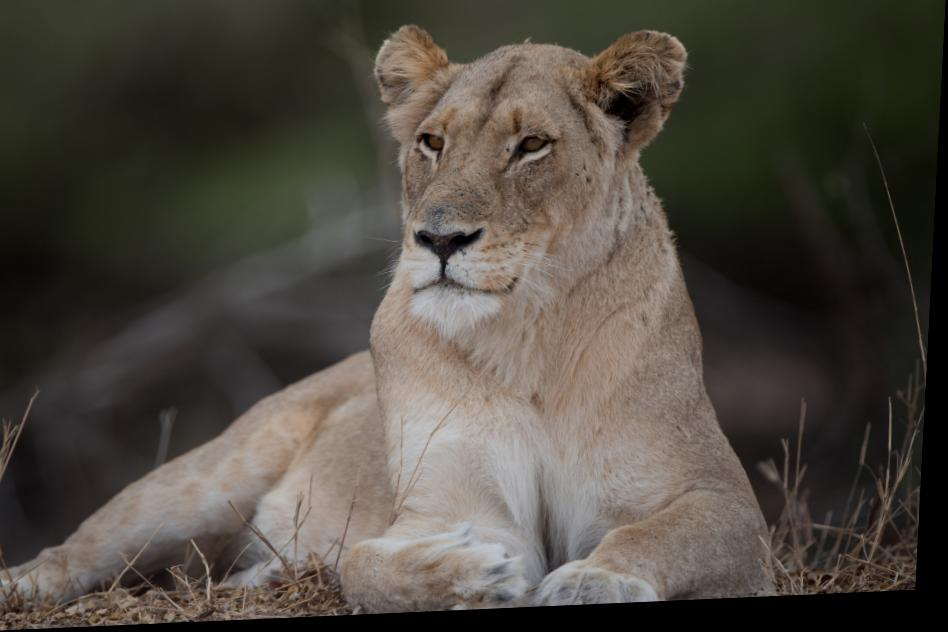lioness: (0, 17, 805, 632)
